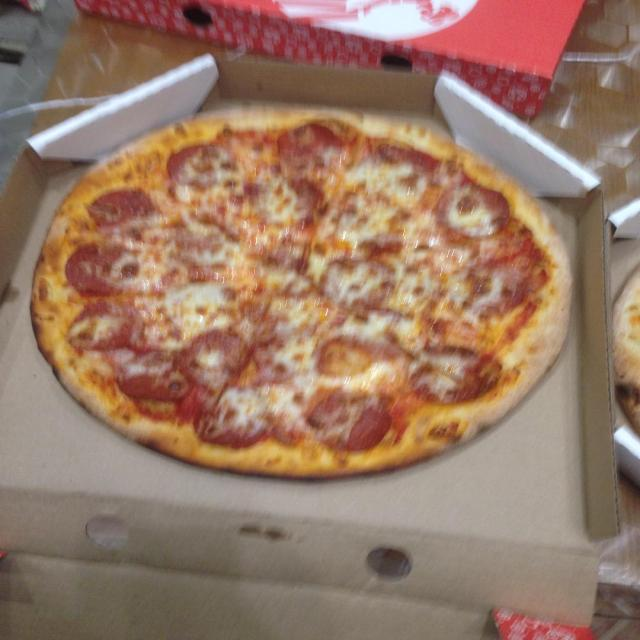pepperoni: (398, 340, 502, 405), (186, 386, 270, 452), (303, 392, 395, 452), (228, 176, 324, 225), (65, 300, 147, 355), (113, 348, 196, 402), (64, 243, 140, 300), (436, 183, 511, 240), (317, 254, 396, 308), (181, 330, 249, 390), (271, 121, 344, 172), (306, 333, 391, 376), (159, 143, 233, 191), (82, 188, 156, 231), (244, 328, 298, 386), (364, 139, 434, 178), (481, 261, 528, 311)
pizza: (31, 108, 572, 478)
